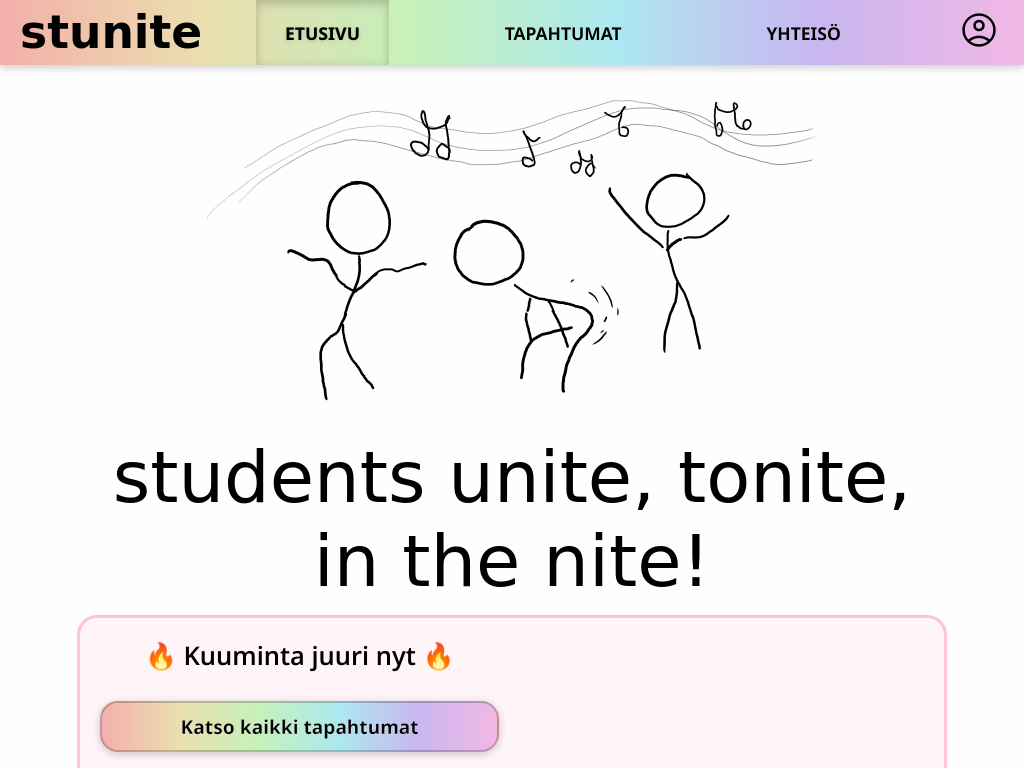
Test: Login Modal › should be ablo to go back in modal
Note: open login modal
Click the text with class "material-symbols-outlined" at (979,30), box [959,10,999,50]
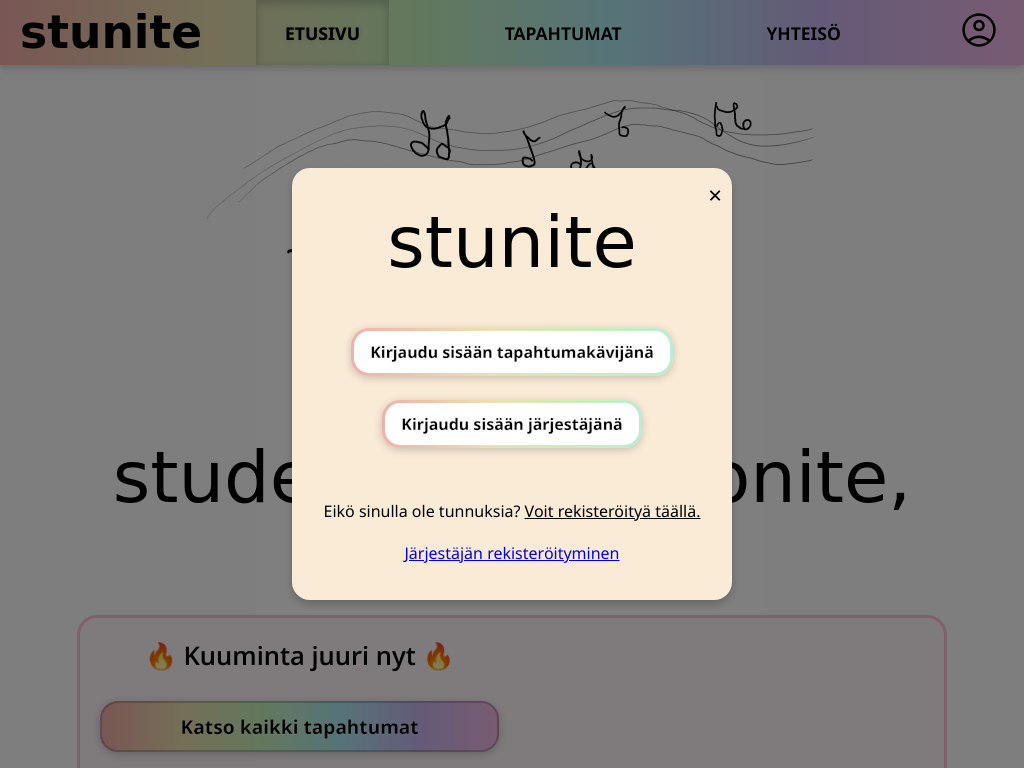
Result: the element with class "modal-content" is shown at [292,168,732,600]
Result: the button "Kirjaudu sisään tapahtumakävijänä" is shown
Note: go to normal user login
Click the button "Kirjaudu sisään tapahtumakävijänä" at (512,352), box [351,328,673,376]
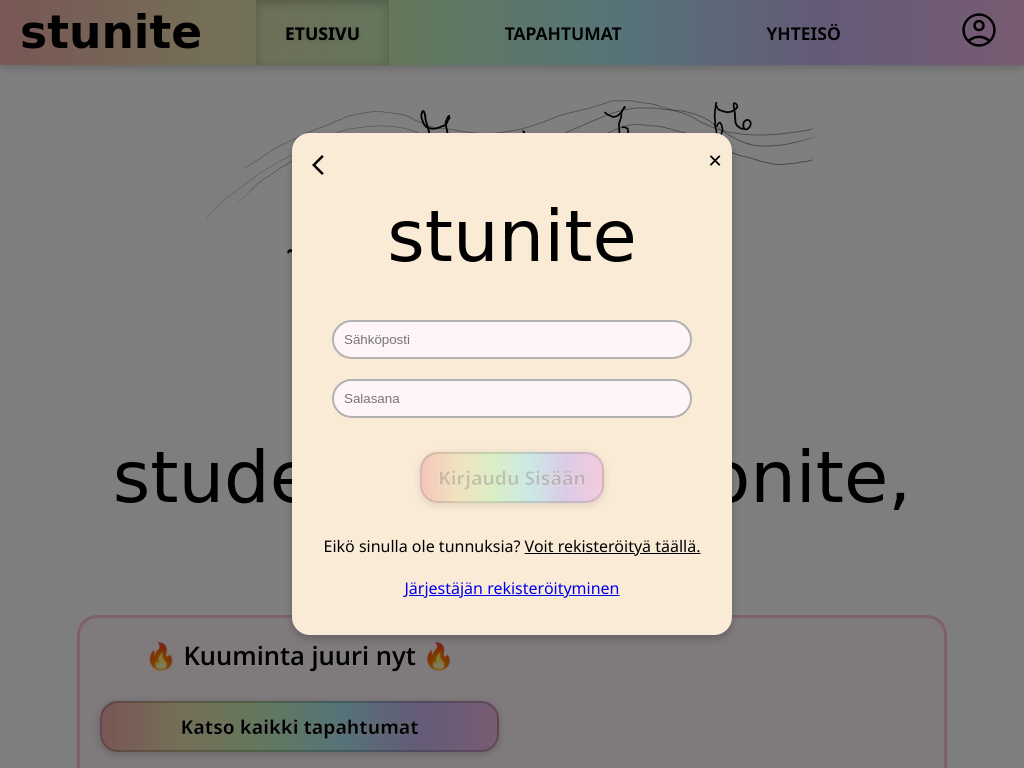
Note: go back by pressing arrow
Click the 2nd text with class "material-symbols-outlined" at (324,165), box [312,153,336,177]
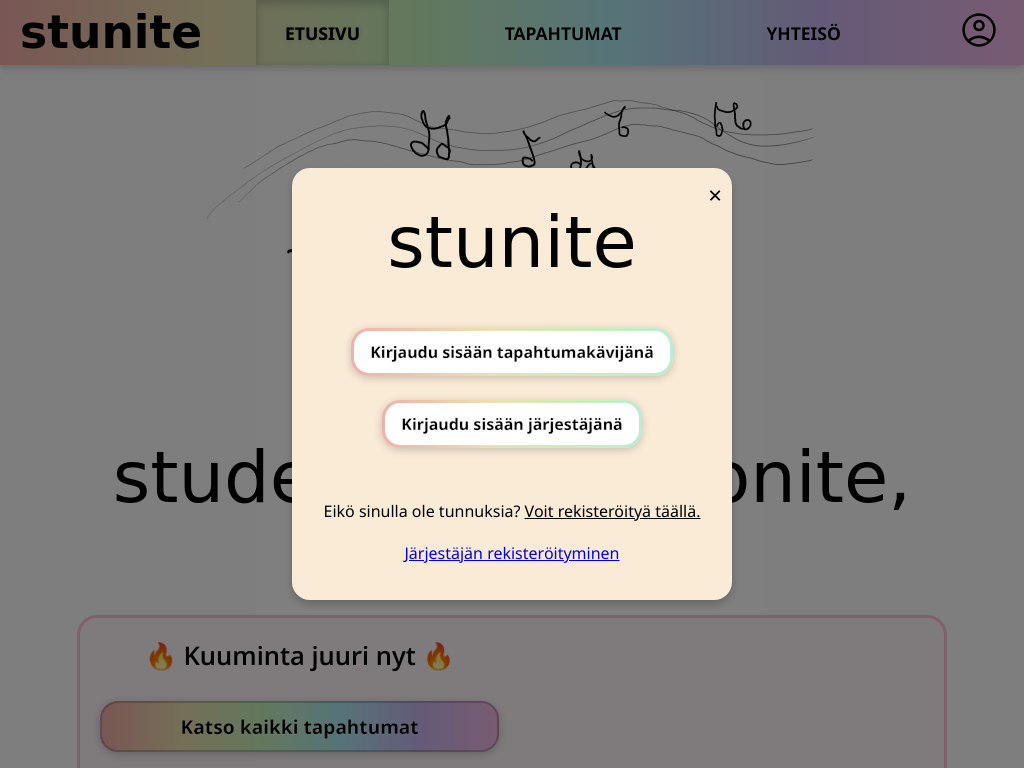
Result: the button "Kirjaudu sisään tapahtumakävijänä" is shown at [351,328,673,376]
Result: the button "Kirjaudu sisään järjestäjänä" is shown at [382,400,642,448]
